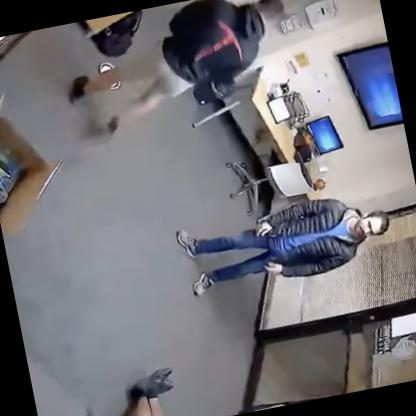Human Body: (44, 0, 307, 155), (167, 174, 400, 305)
